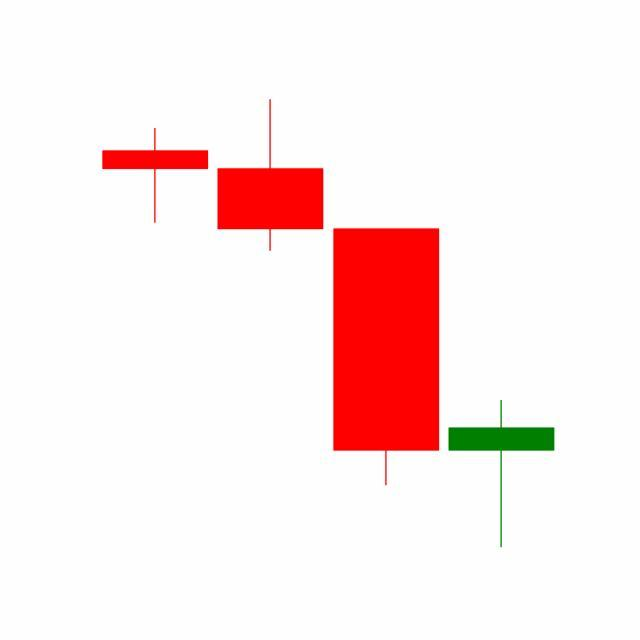Spinning Top: (444, 399, 560, 550)
